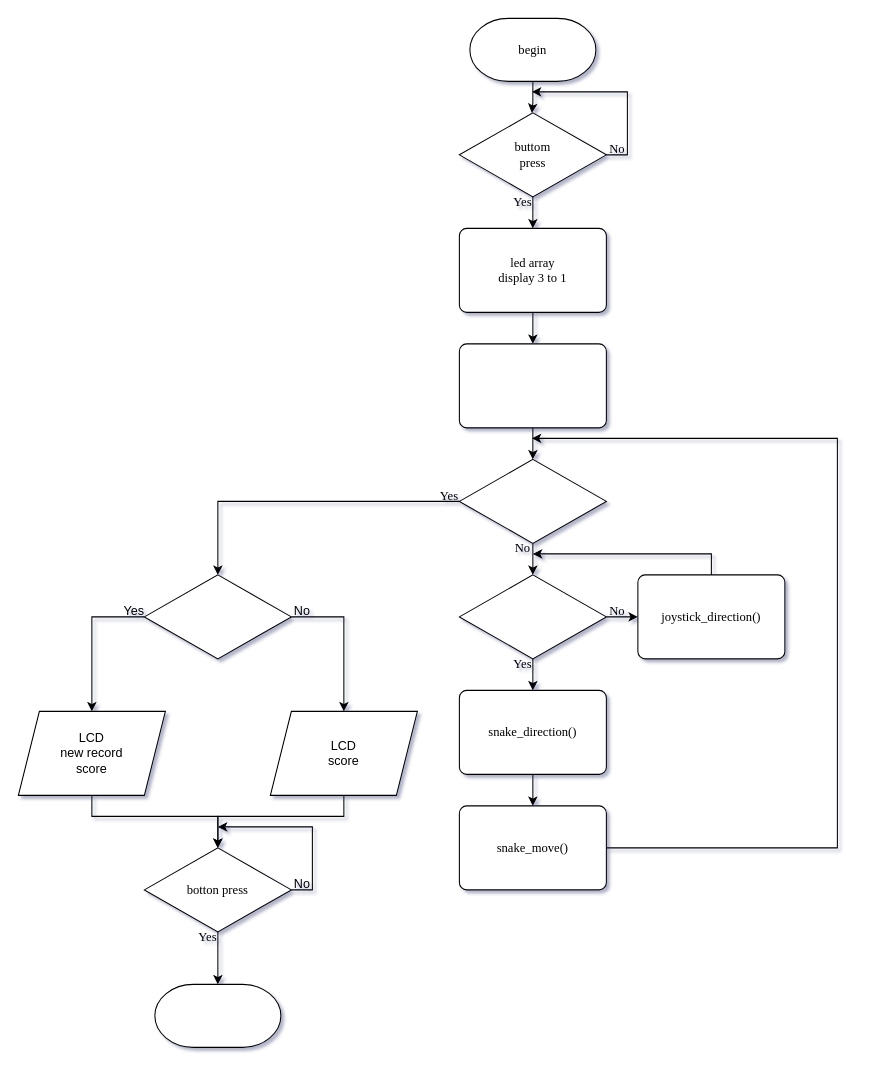
Some shapes in this 870 by 1072 pixel diagram are drawn without their labels. Each missing label, with the centre of its shape:
finish: point (217, 1015)
game finish: point (532, 500)
last_millis + 500 > millis(): point (532, 616)
reset snake: point (532, 385)
score > highest score: point (217, 616)
